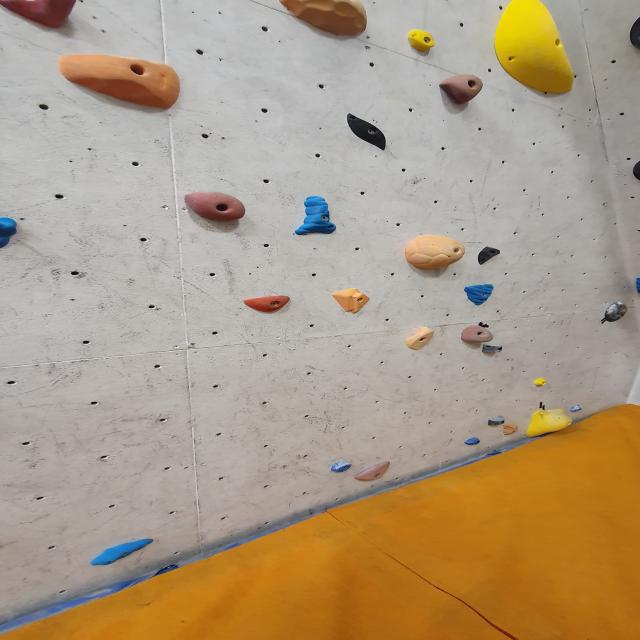Crimp: (0, 0, 84, 30), (88, 538, 156, 566), (242, 294, 292, 312), (352, 462, 393, 481), (463, 284, 495, 305), (331, 462, 355, 473), (464, 439, 481, 447), (634, 276, 640, 296)
Jug: (181, 193, 248, 224), (436, 69, 486, 103), (460, 327, 496, 346)
Pinch: (294, 194, 338, 235), (404, 326, 438, 351), (482, 343, 506, 356), (487, 417, 507, 426)
Pocket: (601, 301, 632, 321)
Sloper: (492, 2, 576, 102), (54, 54, 182, 111), (275, 0, 371, 38), (404, 236, 467, 274), (524, 409, 573, 437), (331, 287, 371, 314), (408, 29, 438, 55), (501, 423, 518, 436)
